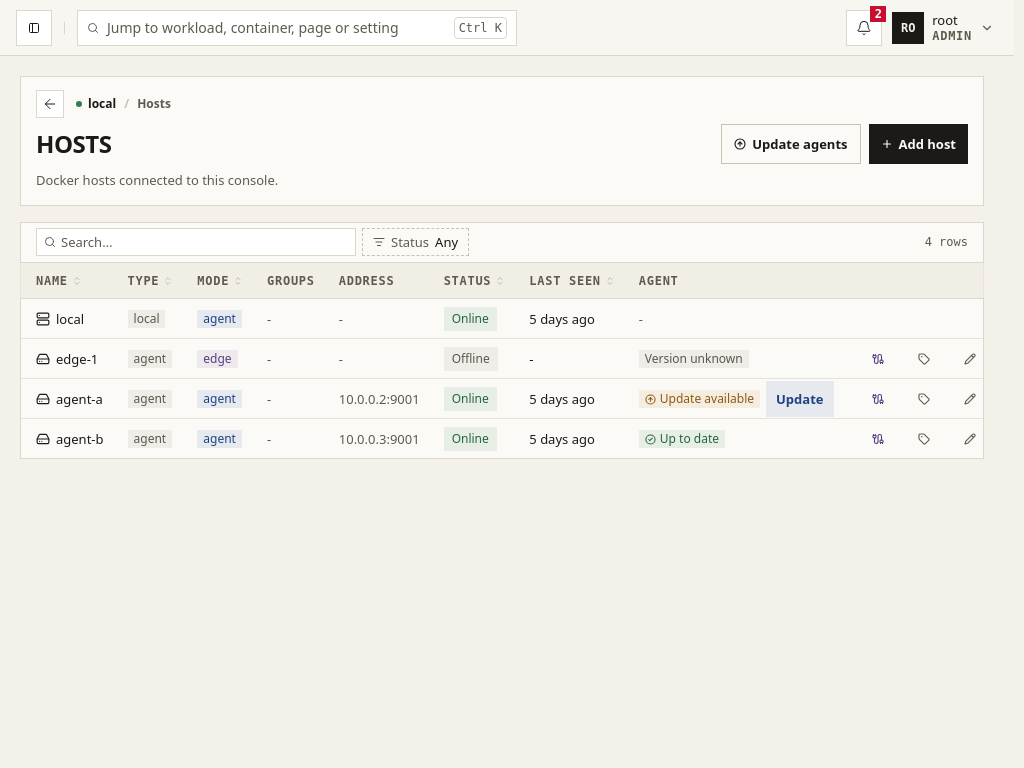
Scenario: hosts page › renames a host from its row
The width and height of the screenshot is (1024, 768).
Click the button named "Rename agent-a" at coordinates (970, 399), box 950,379 -> 990,419
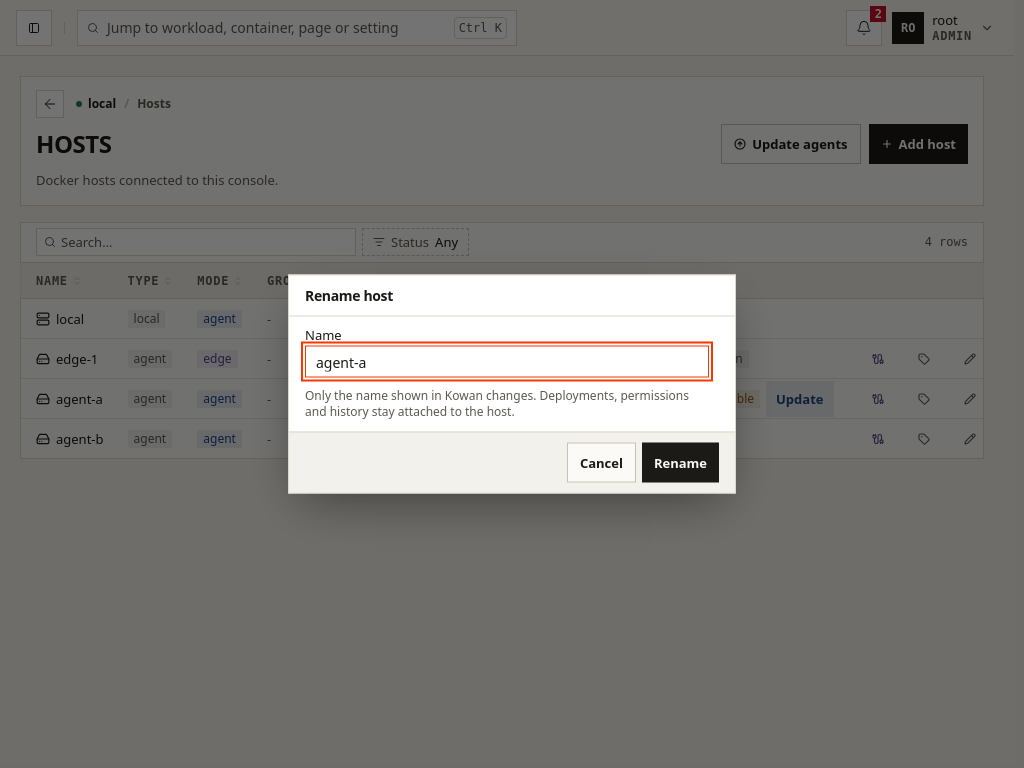
Check: the field labelled "Name" holds "agent-a"
Replace the text in the field labelled "Name" with "rack-1" at coordinates (507, 362), box 305,346 -> 709,378
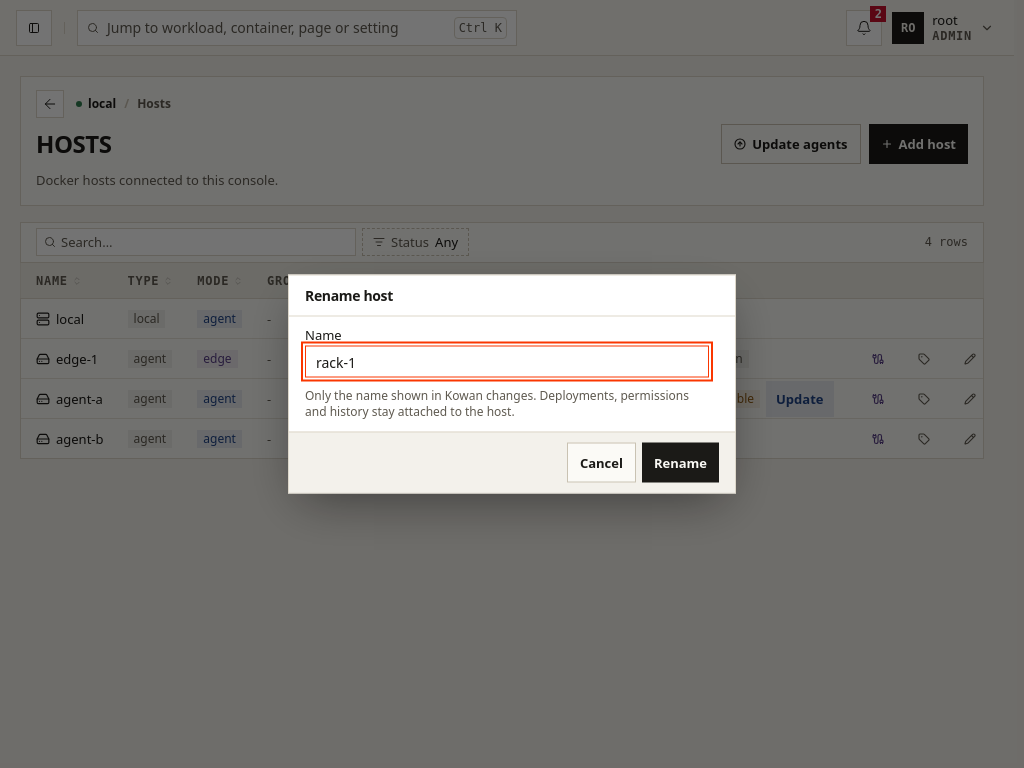
Click the button "Rename" at coordinates (680, 462), box 642,442 -> 719,482
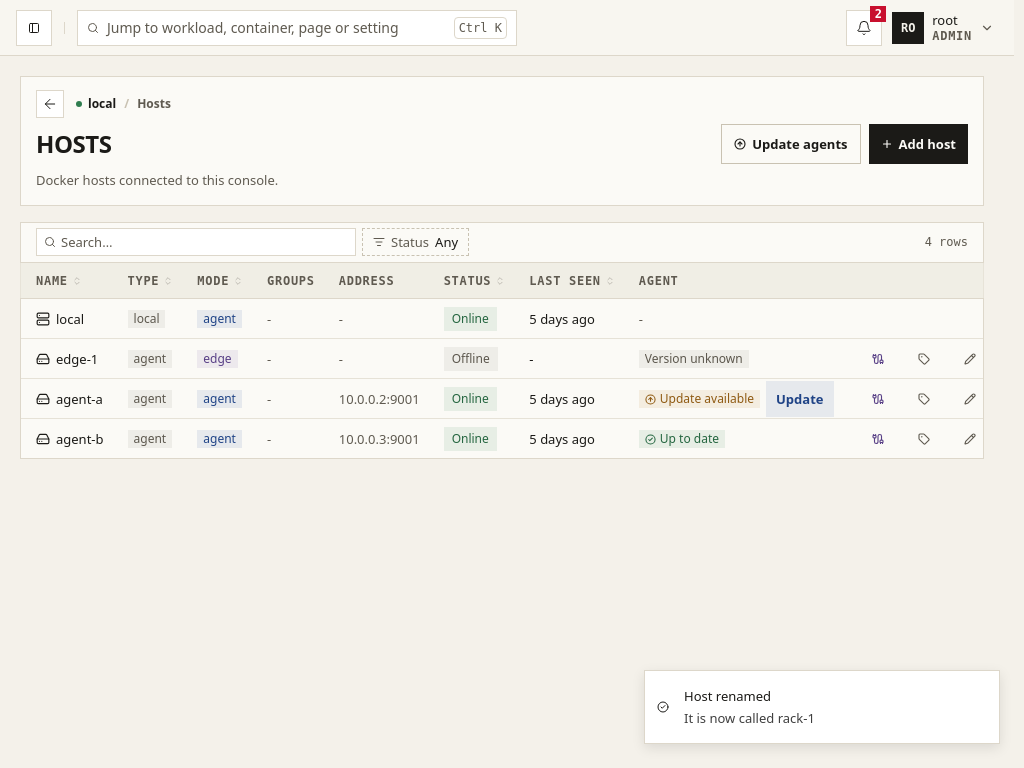
Check: the text "Host renamed" is shown, box 684,687 -> 771,705
